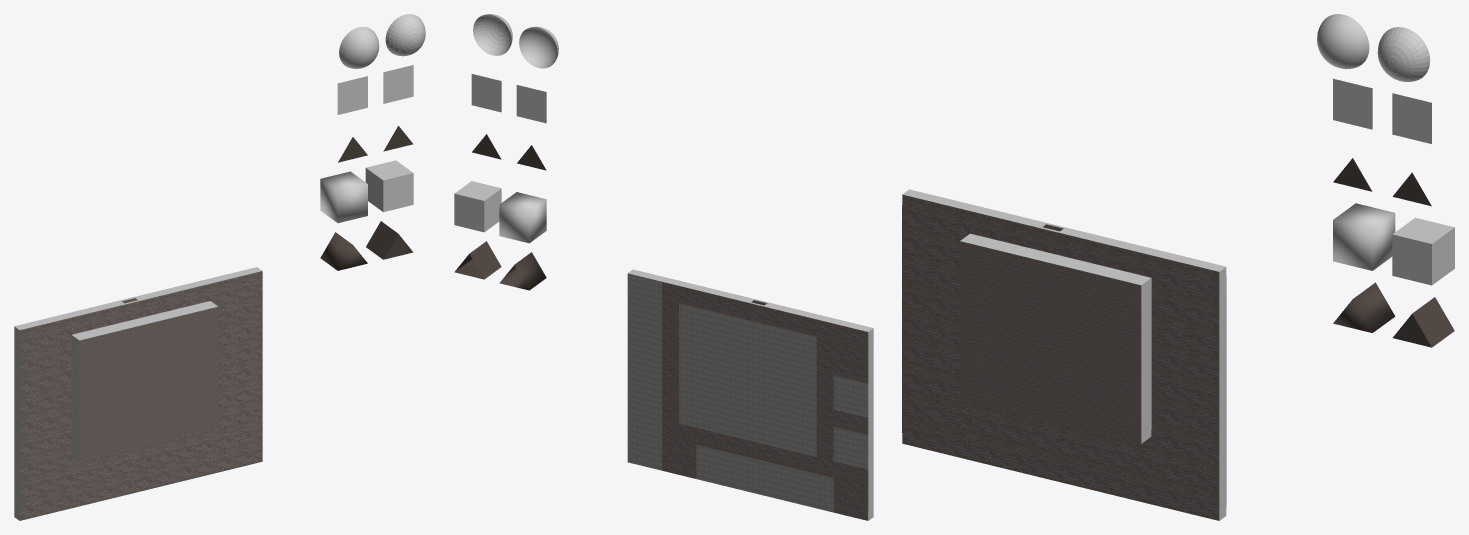
Rendered from world_interactive.obj.
3 views of the same model, side by side, from view 1: azimuth 30°, elevation 25°; view 2: azimuth 150°, elevation 25°; view 3: azimuth 330°, elevation 25° (orthographic). The views are drawn at different scales.
Parts seen in each view (by area): view 1: Walls_Cube_Ceiling, Walls.001_Cube.003_Default, Walls.001_Cube.003_Ceiling, Walls_Cube_WhiteWalkBrick, Walls_Cube_InteriorWall; view 2: Walls_Cube_FloorStoneTiles, Walls_Cube_WoodFloorCorridoor, Walls.001_Cube.003_Default, Walls.001_Cube.003_Ceiling, Walls_Cube_InteriorWall; view 3: Walls_Cube_Ceiling, Walls.001_Cube.003_Default, Walls.001_Cube.003_Ceiling, Walls_Cube_WhiteWalkBrick, Walls_Cube_External, Walls_Cube_InteriorWall.
Part boxes in pixels (x1,y1,x2,y2): Walls_Cube_Ceiling: (19, 271, 262, 520); Walls.001_Cube.003_Default: (320, 14, 425, 223); Walls.001_Cube.003_Ceiling: (320, 126, 413, 270); Walls_Cube_WhiteWalkBrick: (71, 301, 217, 461); Walls_Cube_InteriorWall: (14, 275, 227, 520); Walls_Cube_FloorStoneTiles: (627, 273, 868, 512); Walls_Cube_WoodFloorCorridoor: (662, 282, 868, 520); Walls.001_Cube.003_Default: (454, 14, 558, 243); Walls.001_Cube.003_Ceiling: (454, 134, 546, 290); Walls_Cube_InteriorWall: (662, 278, 873, 520); Walls_Cube_Ceiling: (902, 194, 1219, 520); Walls.001_Cube.003_Default: (1317, 14, 1454, 285); Walls.001_Cube.003_Ceiling: (1333, 158, 1454, 347); Walls_Cube_WhiteWalkBrick: (960, 233, 1151, 443); Walls_Cube_External: (1174, 255, 1226, 520); Walls_Cube_InteriorWall: (902, 189, 1180, 260).
Size of the model in its own units: 133 by 130 by 18.82.
